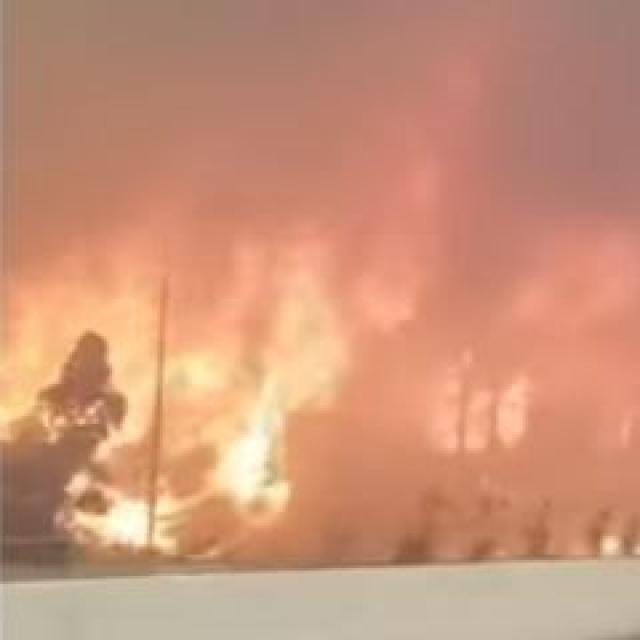Fire: (0, 266, 349, 544), (418, 363, 536, 449)
Smoke: (2, 0, 634, 496)
